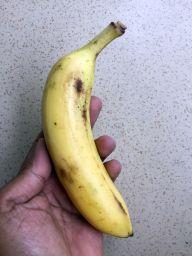Banana Ripe: (38, 18, 164, 240)
